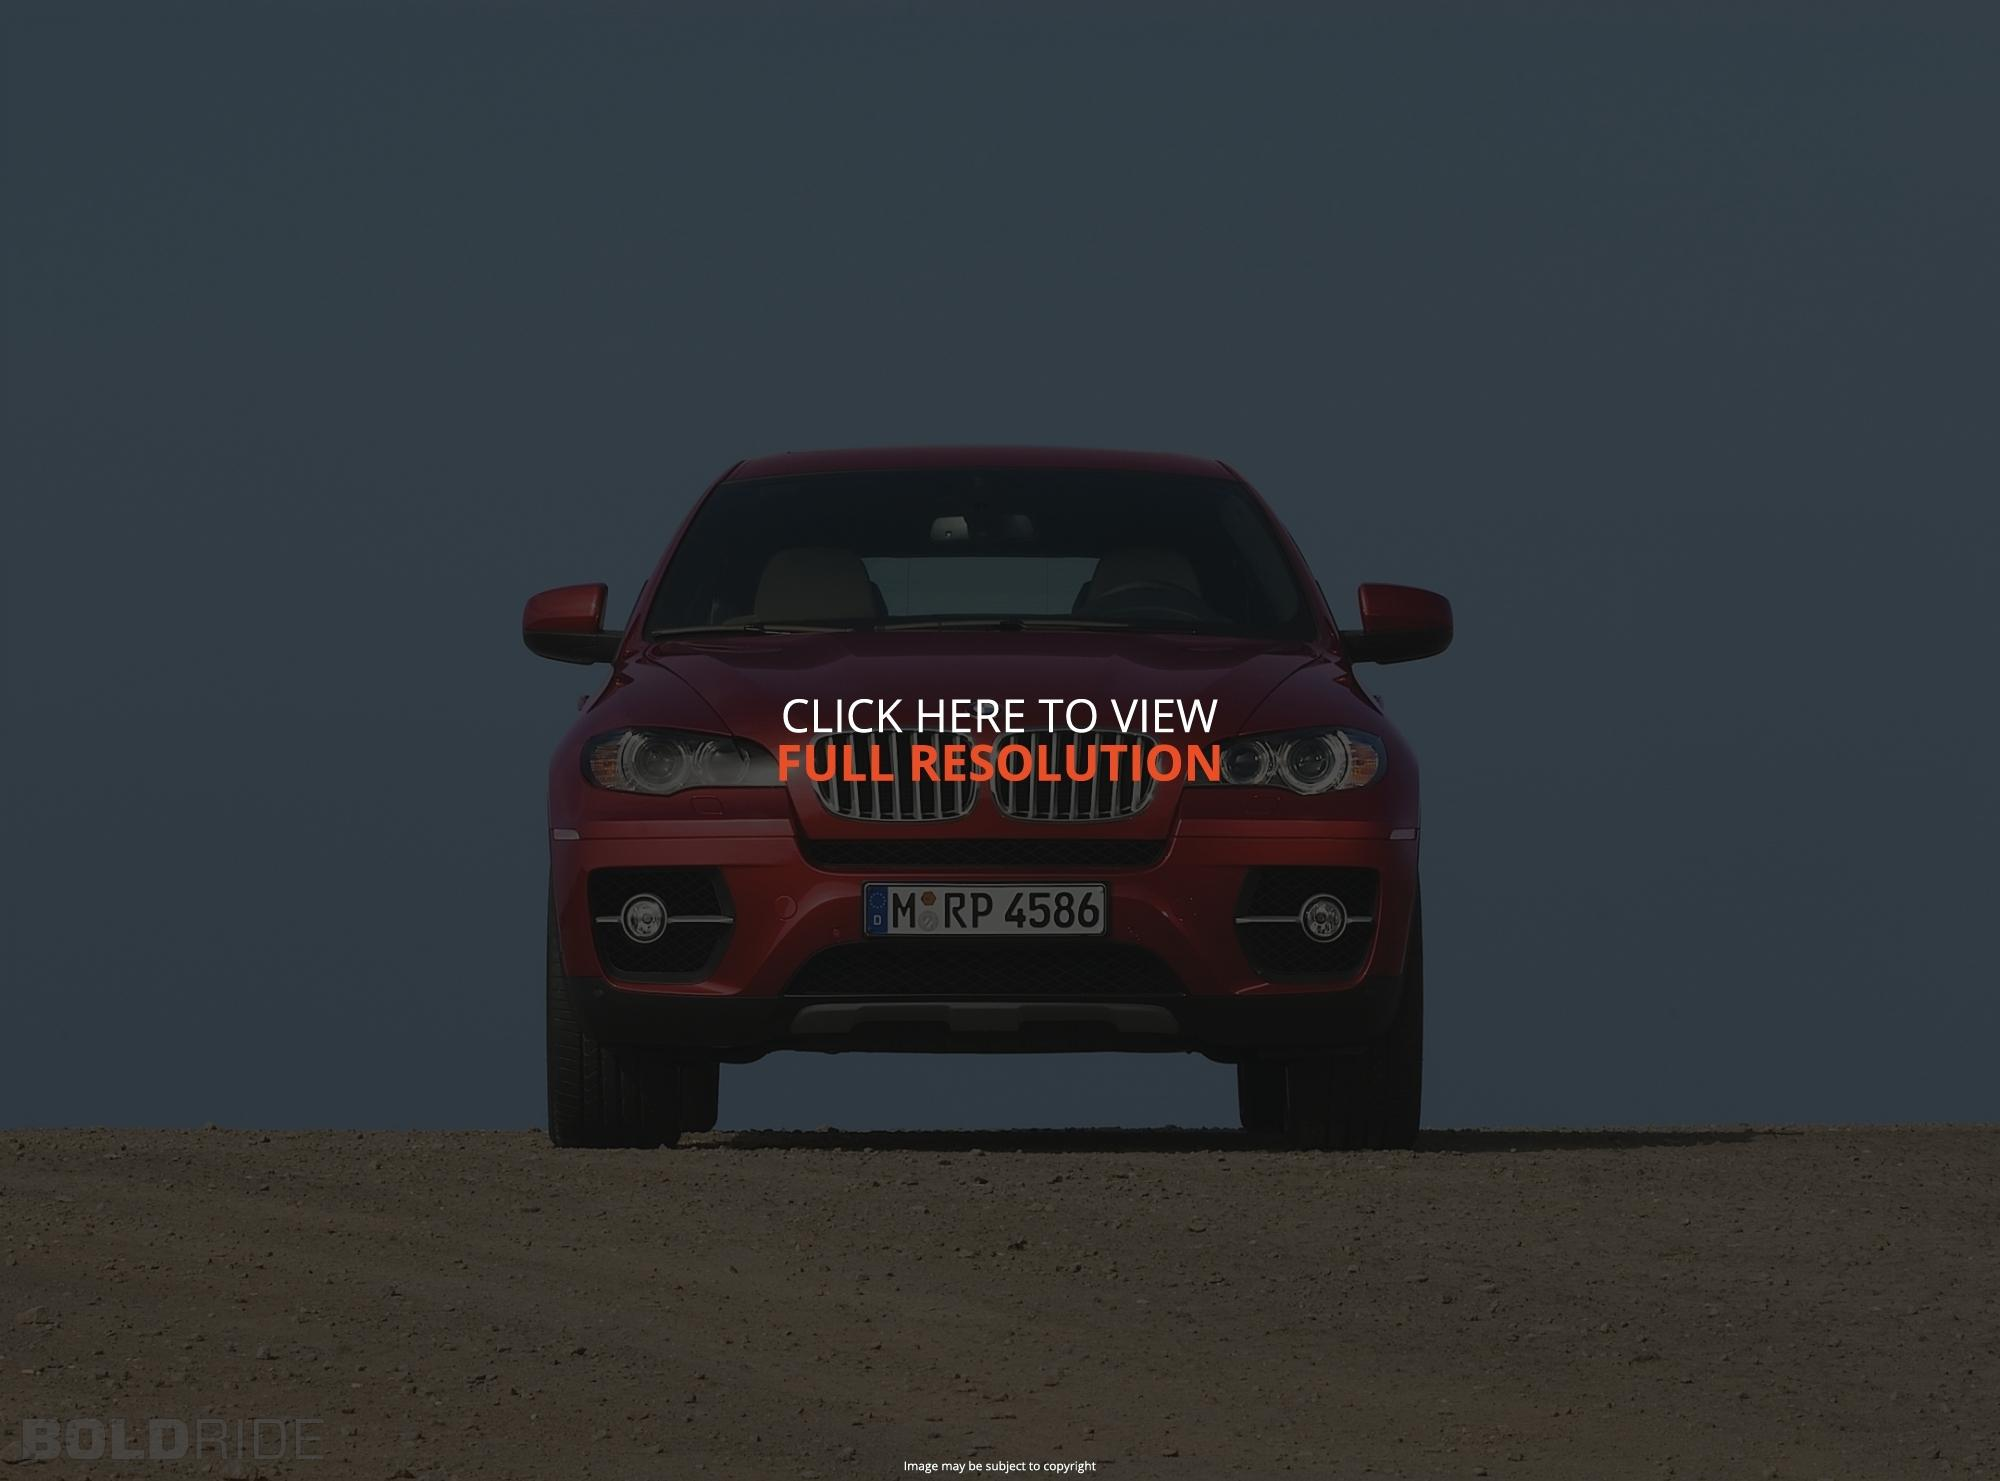Car: (498, 336, 1491, 1176)
